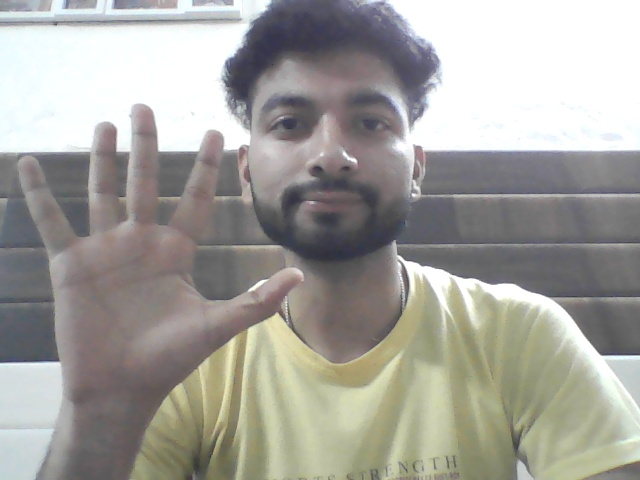Hello: (12, 93, 315, 409)
